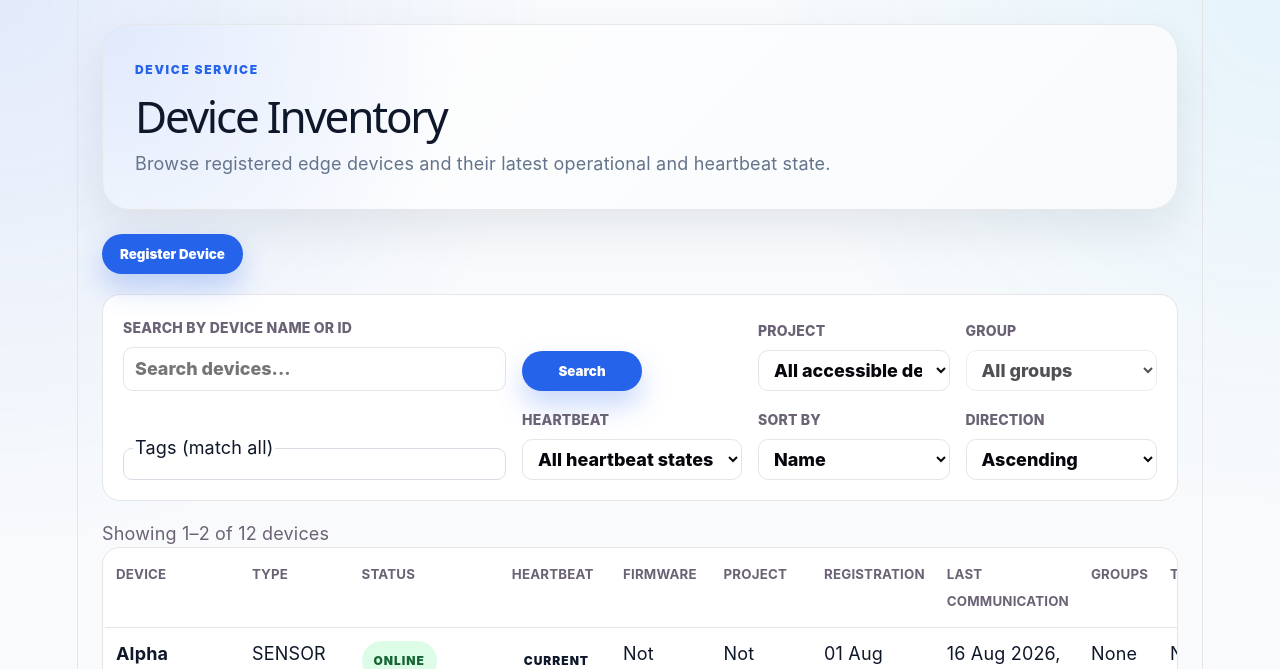
Test: DevicesPage › shows empty search results
Type "missing" into the search field labelled "Search by device name or ID".
click(314, 369); type("missing")  # box x1=123 y1=347 x2=506 y2=391
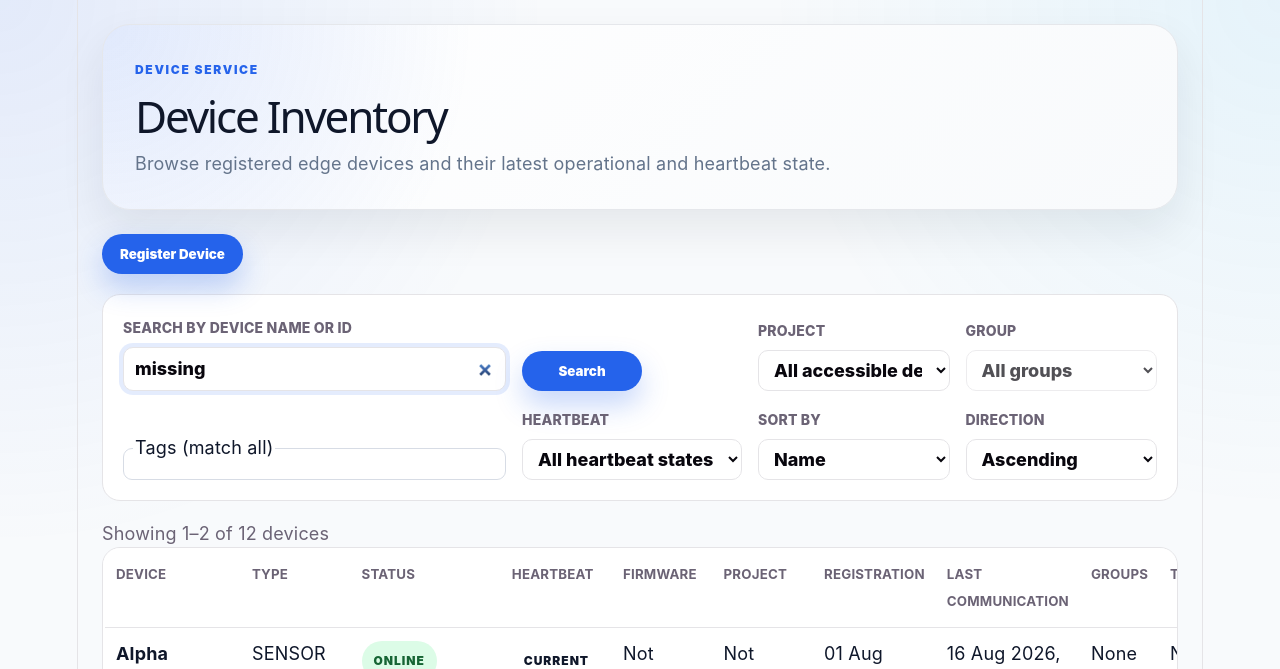
Click the button "Search".
click(582, 371)  # box x1=522 y1=351 x2=642 y2=391
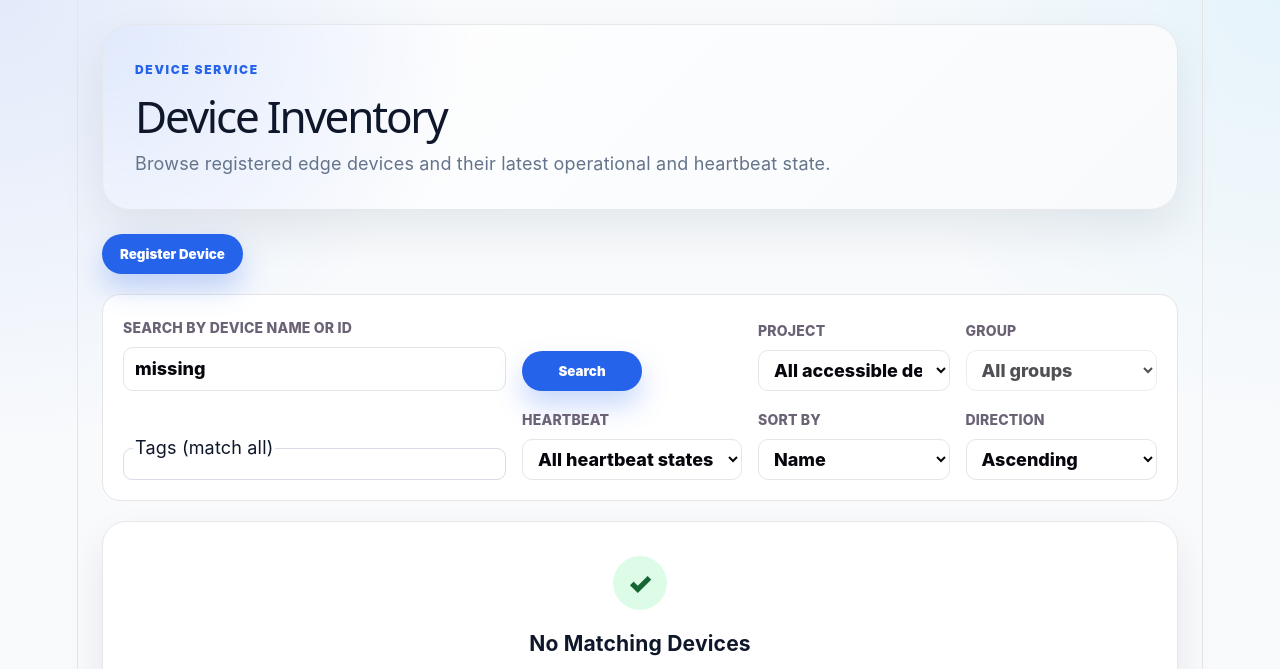
Expected: the heading "No Matching Devices" is shown, x1=529 y1=631 x2=751 y2=656
